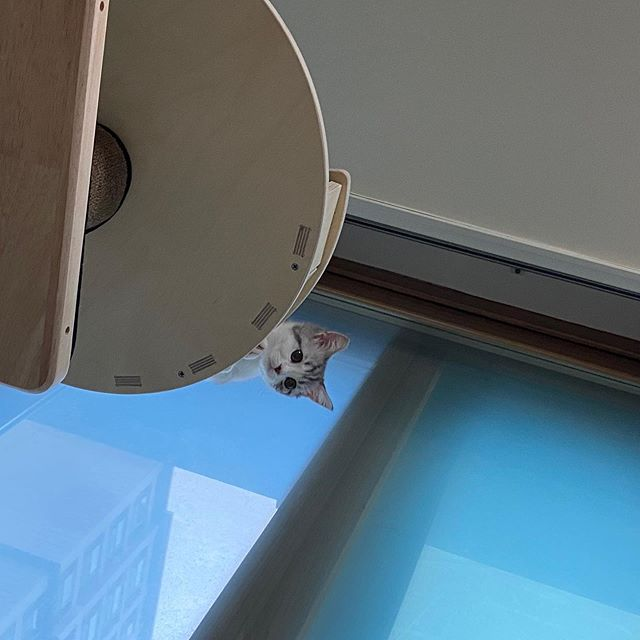cat: (259, 317, 357, 427)
